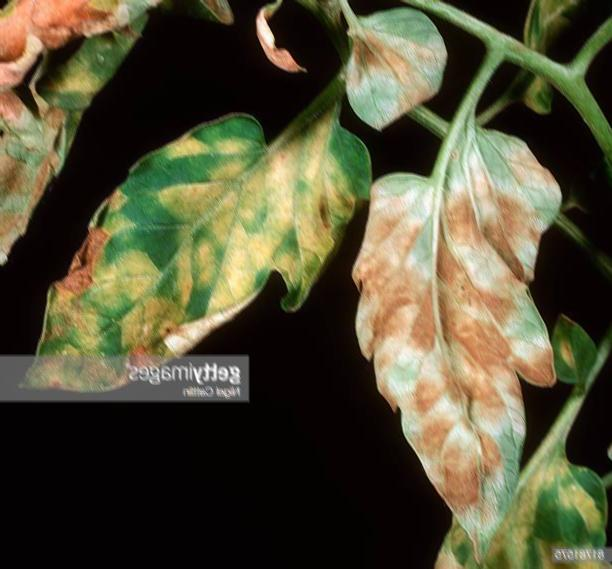Tomato mold leaf: (31, 105, 359, 419)
